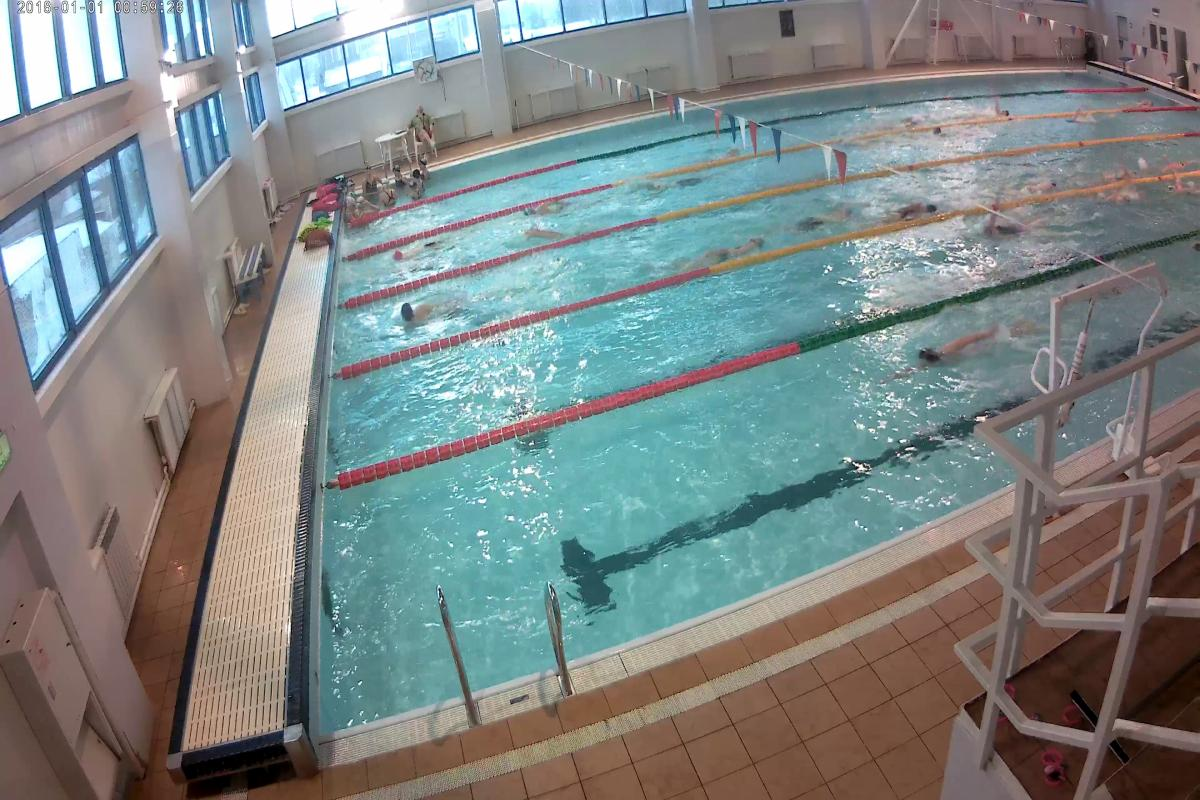swimmer: (976, 210, 1063, 247), (914, 339, 1022, 365), (704, 230, 785, 263), (390, 295, 473, 319), (797, 202, 865, 231), (1090, 181, 1154, 204), (880, 200, 942, 222)
